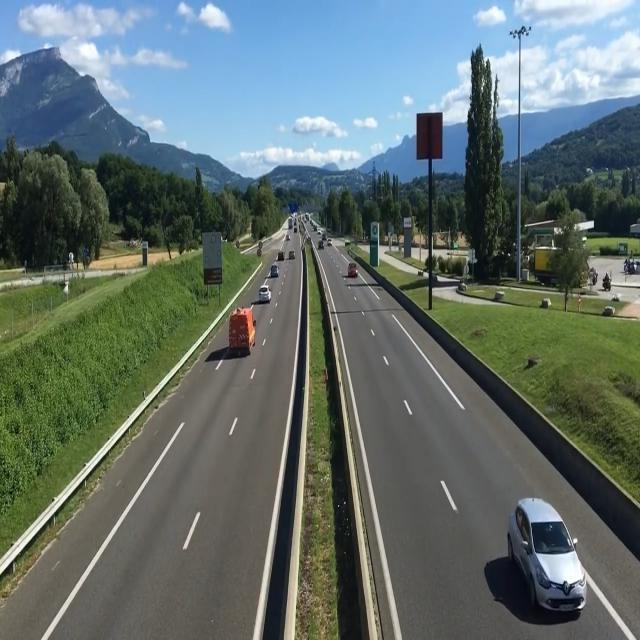Car: (508, 498, 588, 622), (259, 285, 273, 304), (348, 262, 358, 278), (270, 265, 278, 278), (277, 251, 285, 261)
Truck: (227, 308, 257, 354)
